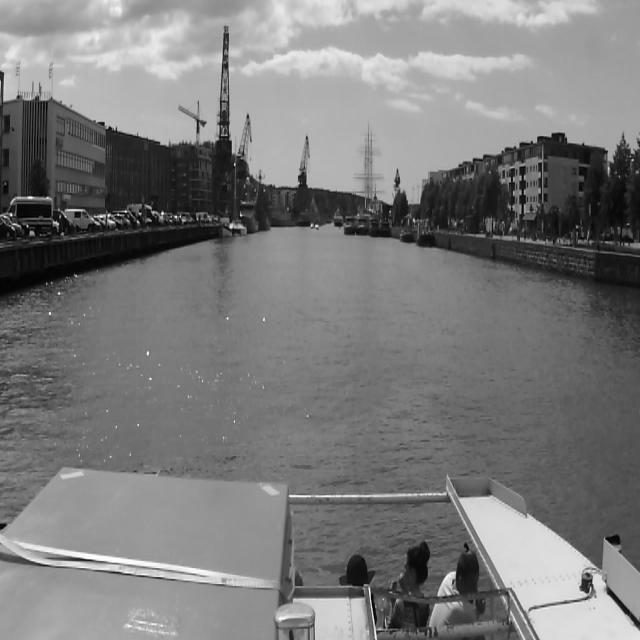ship: (350, 122, 388, 218), (221, 159, 248, 241), (242, 183, 260, 232), (258, 186, 272, 231), (416, 218, 436, 248), (272, 209, 295, 227), (214, 215, 232, 238), (309, 197, 321, 226), (399, 222, 414, 244), (368, 212, 380, 238), (345, 214, 357, 236), (358, 212, 368, 236), (335, 207, 343, 227), (382, 217, 390, 236), (314, 222, 320, 230)
